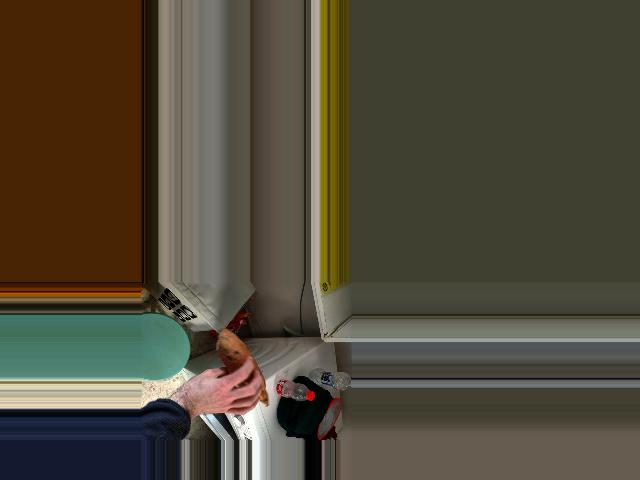sweet_potato: (215, 332, 265, 409)
